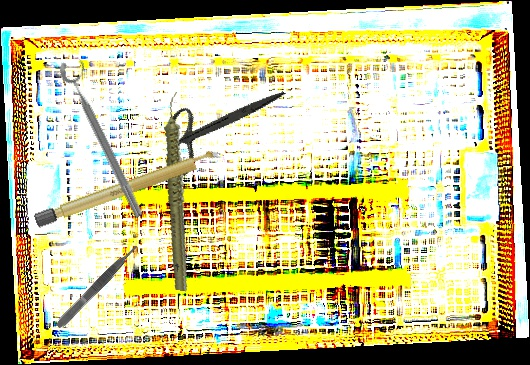Fixation Ring: (55, 53, 157, 221)
Handpiece: (132, 90, 226, 293)
Iris Scissors: (149, 50, 286, 202)
Scalpel Handle: (32, 146, 225, 229)
Tissue Forceps: (53, 242, 142, 331)
